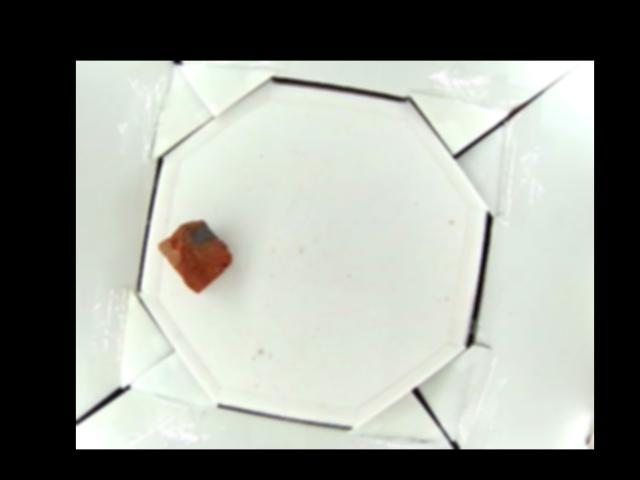Brisk: (156, 220, 230, 292)
